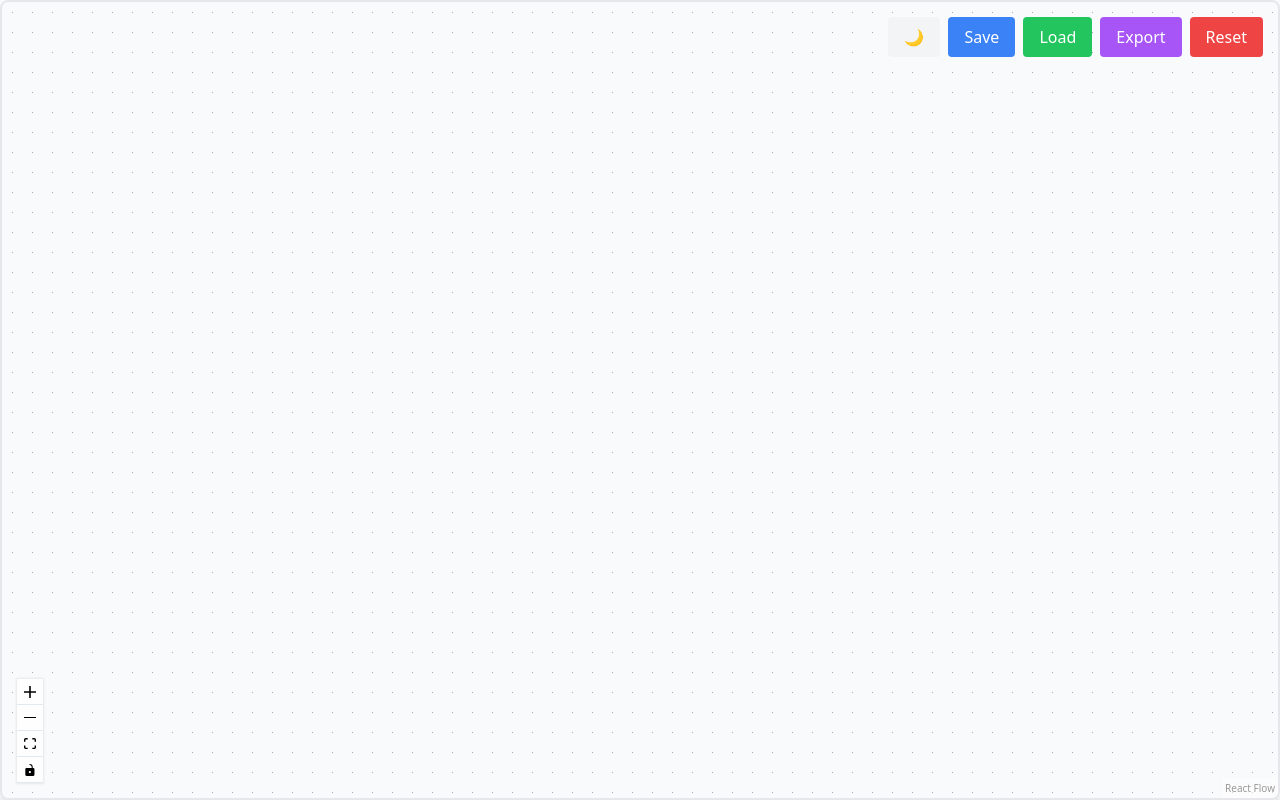
Test: FlowEditor Component › Save Functionality › shows success message after saving
Click the button "Save".
click(982, 37)  # box x1=948 y1=17 x2=1015 y2=57
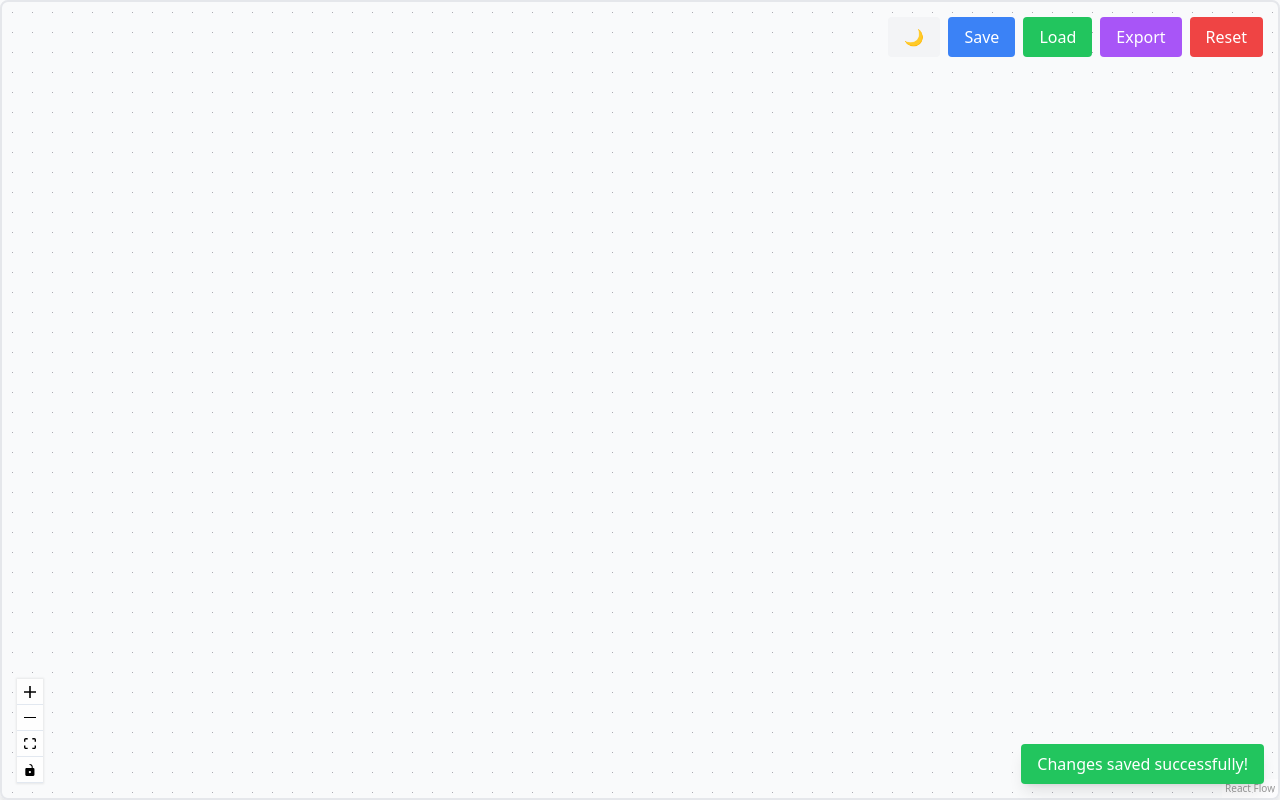
Check: the text "Changes saved successfully!" is shown, box x1=1021 y1=744 x2=1264 y2=784
